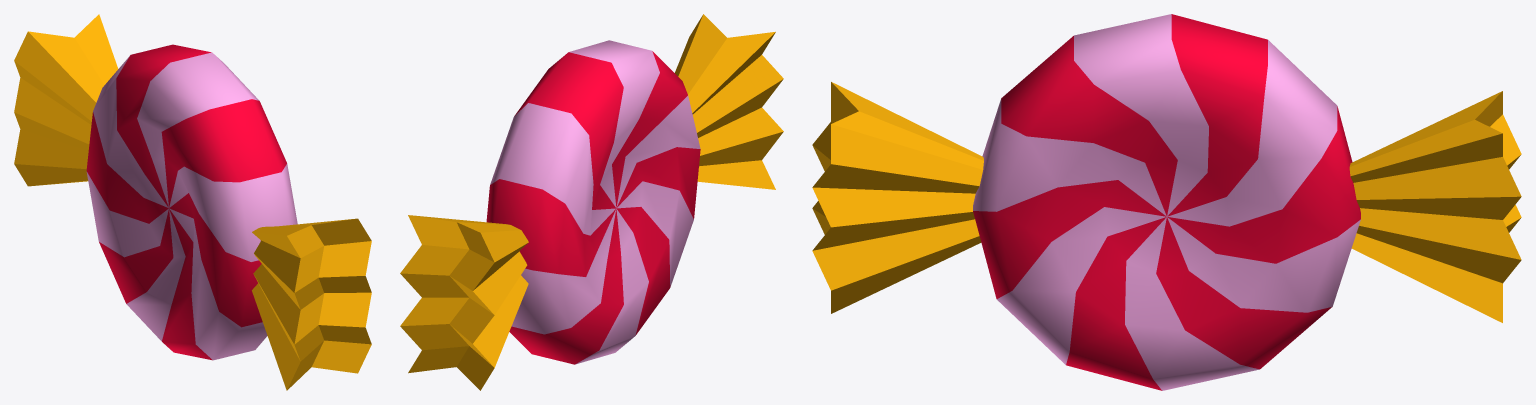
Rendered from wrappedcandy.fbx.
3 renders of one model, left to right at view 1: azimuth 30°, elevation 25°; view 2: azimuth 150°, elevation 25°; view 3: azimuth 270°, elevation 25°, orthographic. The views are drawn at different scales.
Visible parts, largest first — view 1: wrappedcandy; view 2: wrappedcandy; view 3: wrappedcandy.
Boxes of the visible parts, left/top/right/bottom form: wrappedcandy: left=14, top=14, right=371, bottom=390; wrappedcandy: left=400, top=14, right=783, bottom=390; wrappedcandy: left=812, top=14, right=1521, bottom=390.
Bounding box in the file's own units: 63.14 × 200 × 365.
